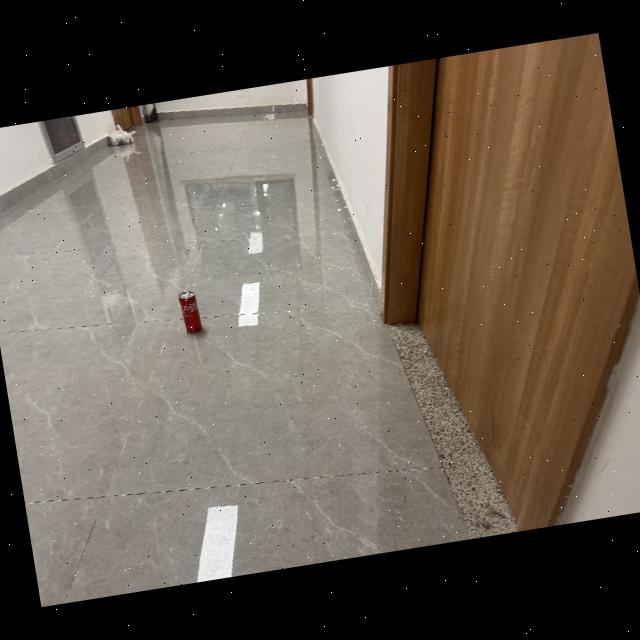Cola: (176, 286, 211, 339)
